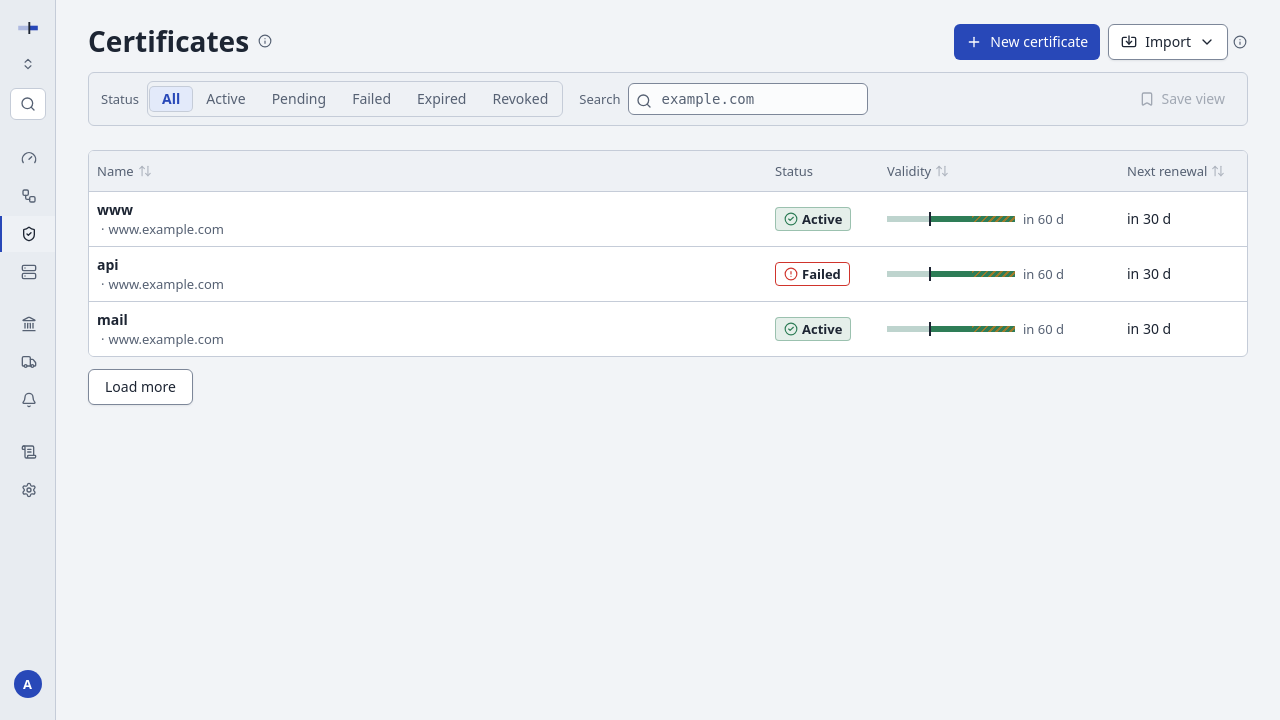
Test: loads the next page with the cursor
This screenshot has width=1280, height=720.
What coordinates should you click on to do the following:
click the button "Load more"
I would click on:
 (140, 386)
Its box is [88,368,193,404].
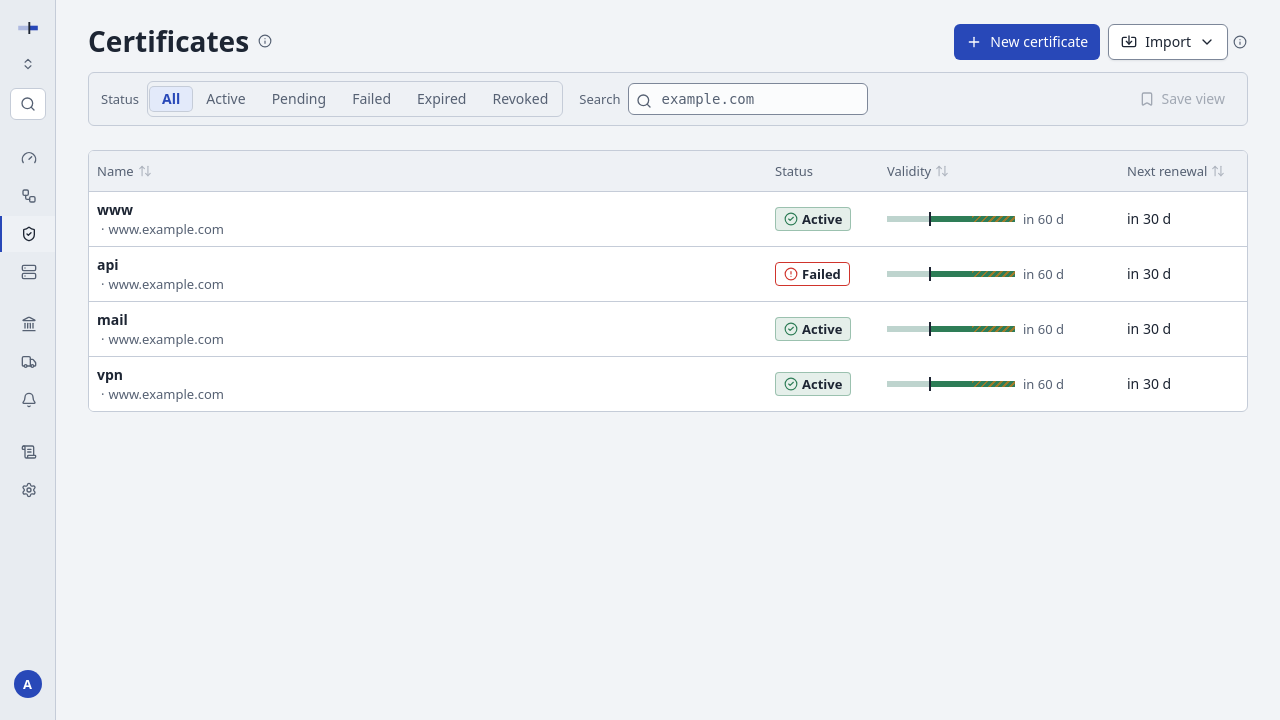
Expected: the link "vpn" is shown, [97,364,123,384]
